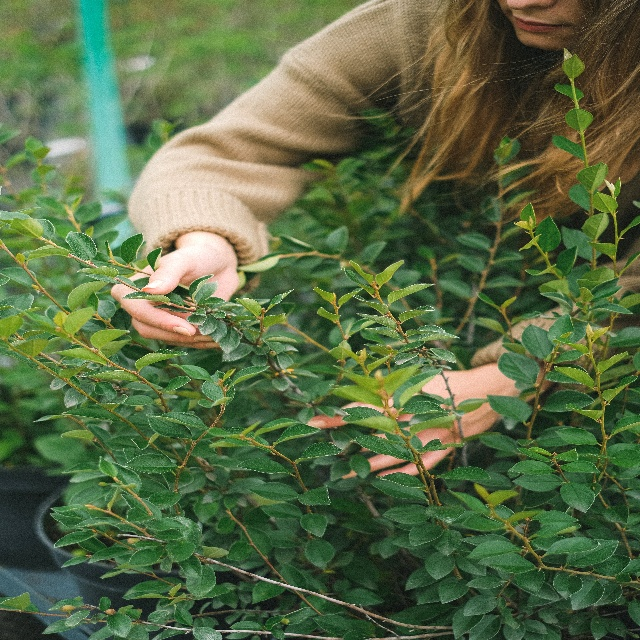Sin_guantes: (308, 355, 524, 478), (110, 238, 240, 350)
